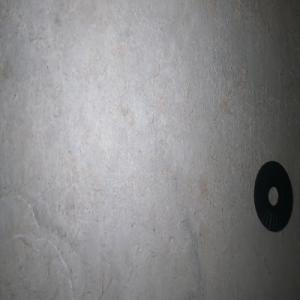Washer: (253, 160, 293, 232)
